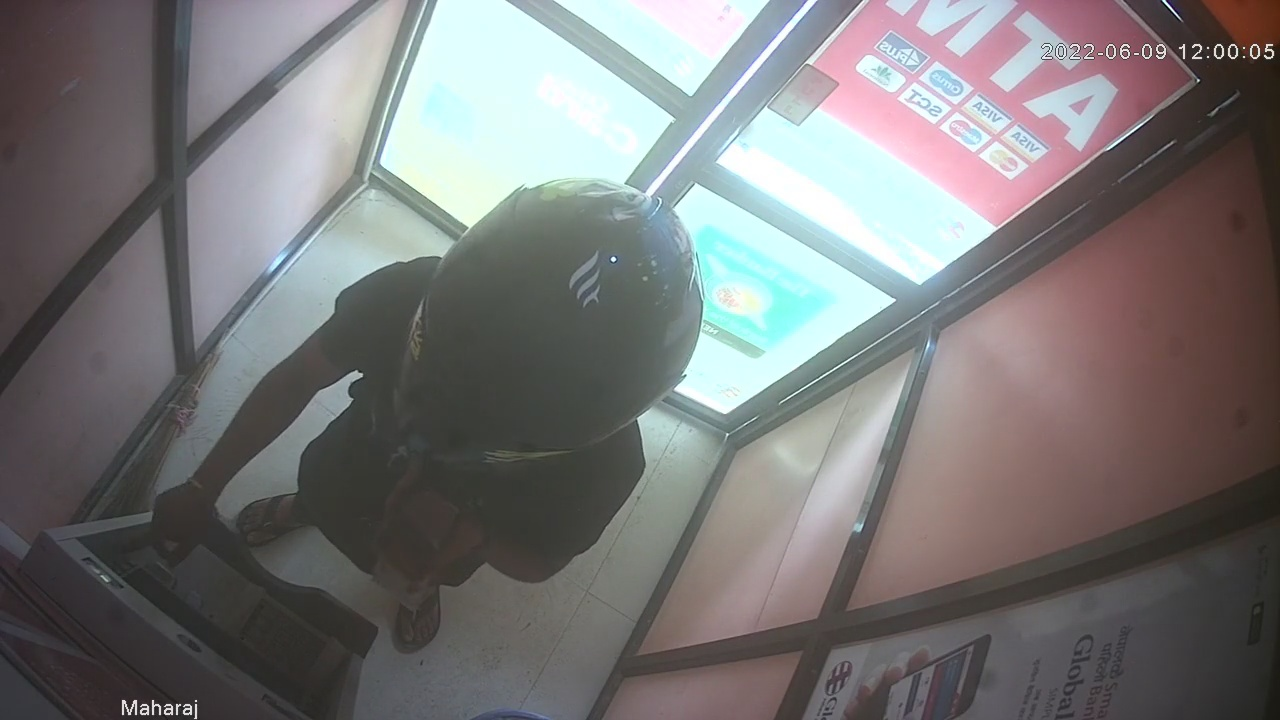helmet: (394, 174, 702, 474)
person: (149, 174, 703, 654), (385, 170, 389, 173)
